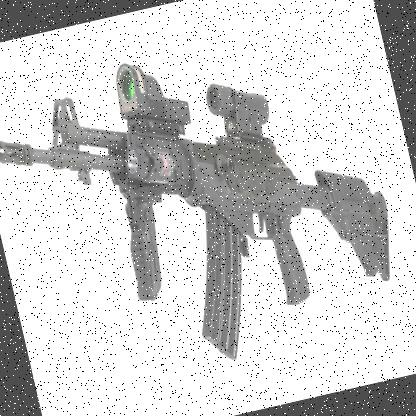rifle: (0, 0, 407, 393)
